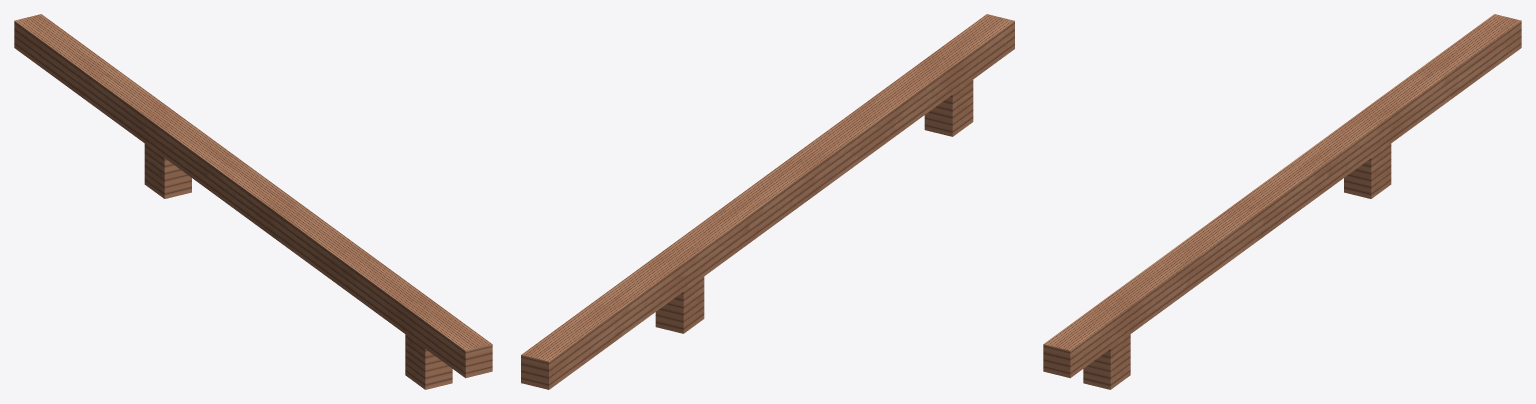
Rendered from Sujetador.fbx.
3 renders of one model, left to right at view 1: azimuth 30°, elevation 25°; view 2: azimuth 150°, elevation 25°; view 3: azimuth 330°, elevation 25°, orthographic. The views are drawn at different scales.
Parts seen in each view (by area): view 1: Cube.002; view 2: Cube.002; view 3: Cube.002.
Part boxes in pixels (x1,y1,x2,y2): Cube.002: [14, 14, 492, 389]; Cube.002: [521, 14, 1014, 389]; Cube.002: [1043, 14, 1521, 389].
Bounding box in the file's own units: 10.52 × 25.37 × 303.
Materials: 1 (1 with a texture image).
